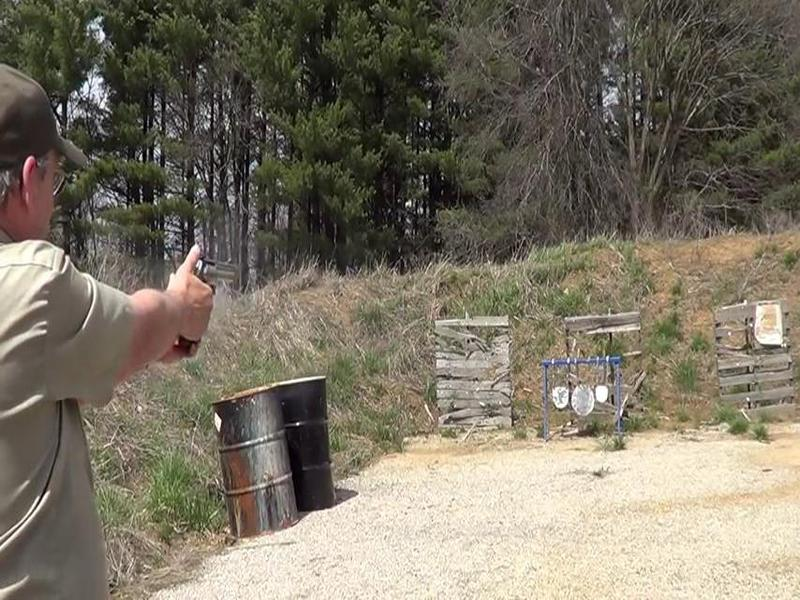Revolver: (177, 245, 253, 370)
